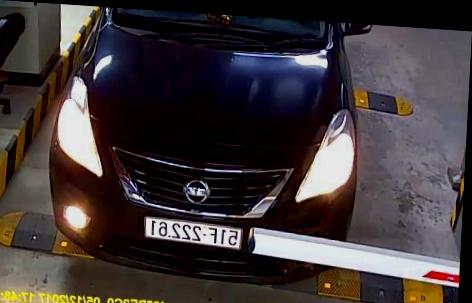License_Plate: (140, 216, 245, 251)
